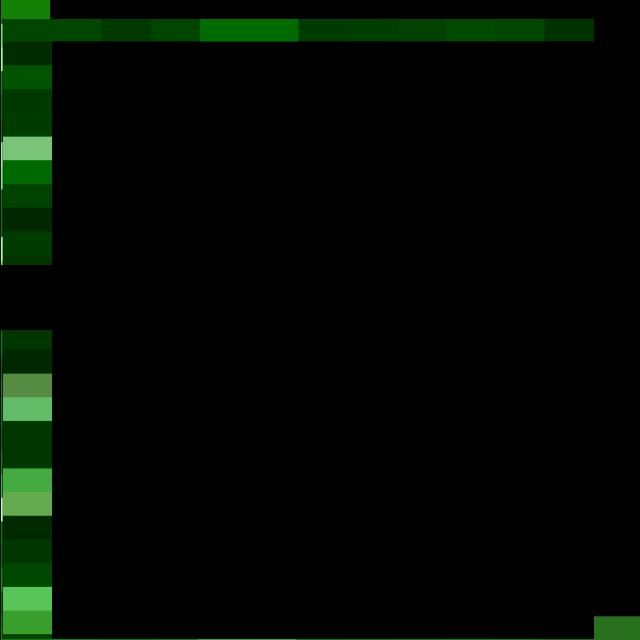nofire: (0, 19, 592, 639)
